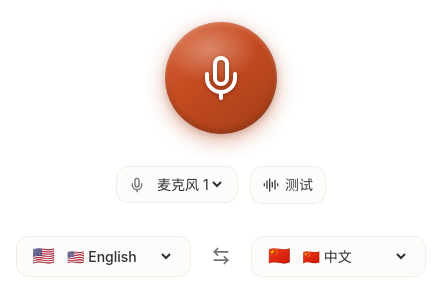
Scenario: /interpret 麦克风测试的资源清理（L48） › 测试进行中卸载页面：定时器停摆、麦克风与 AudioContext 立即释放
What coordinates should you click on to do the following:
click the button "测试"
I would click on:
 (288, 184)
Its box is [250, 166, 326, 204].
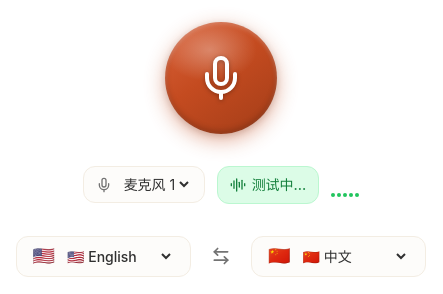
Now the button "测试中…" is shown, box [217, 166, 319, 204]
